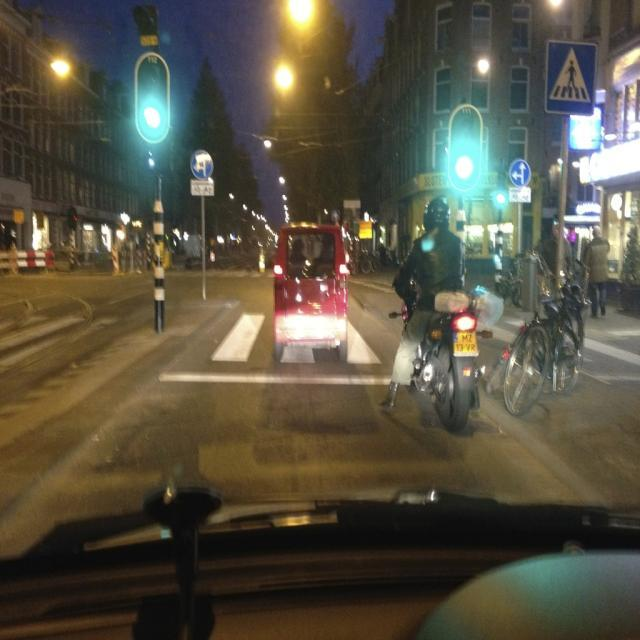road_sign: (548, 42, 596, 114), (510, 159, 530, 187)
traffic light: (134, 56, 170, 145), (448, 106, 485, 190)
